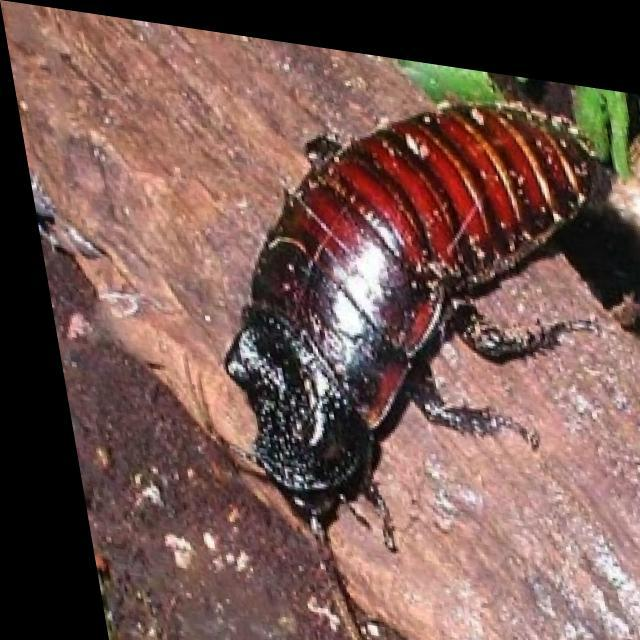cockroach: (219, 96, 614, 554)
